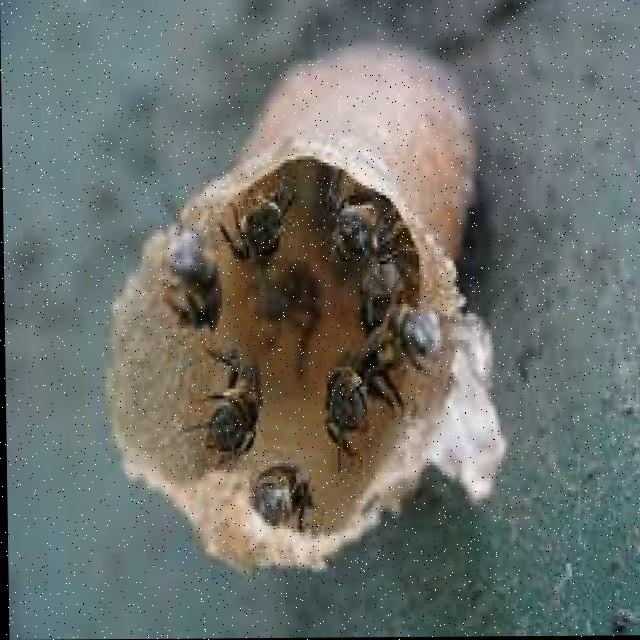Meliponula: (371, 281, 476, 389), (157, 198, 229, 340), (316, 344, 396, 466), (316, 151, 393, 273), (179, 348, 260, 460), (248, 456, 324, 548), (350, 237, 423, 319), (239, 158, 291, 264)
